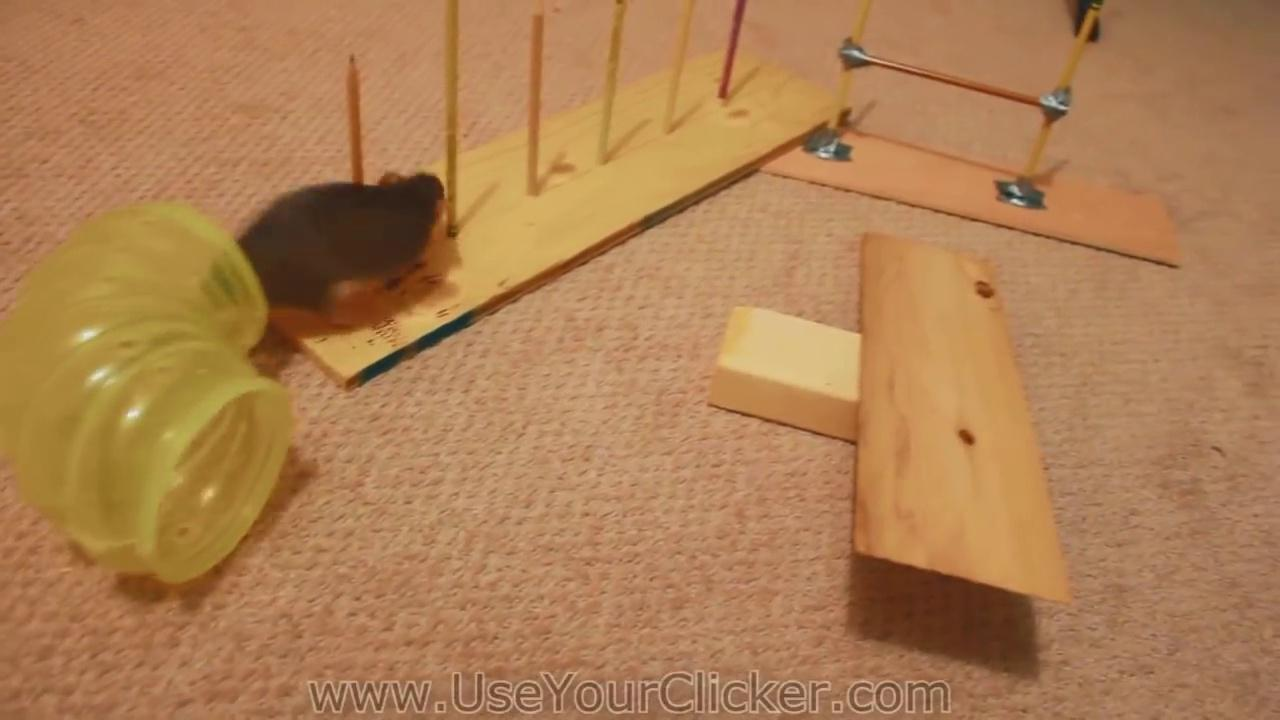rat: (239, 171, 448, 304)
